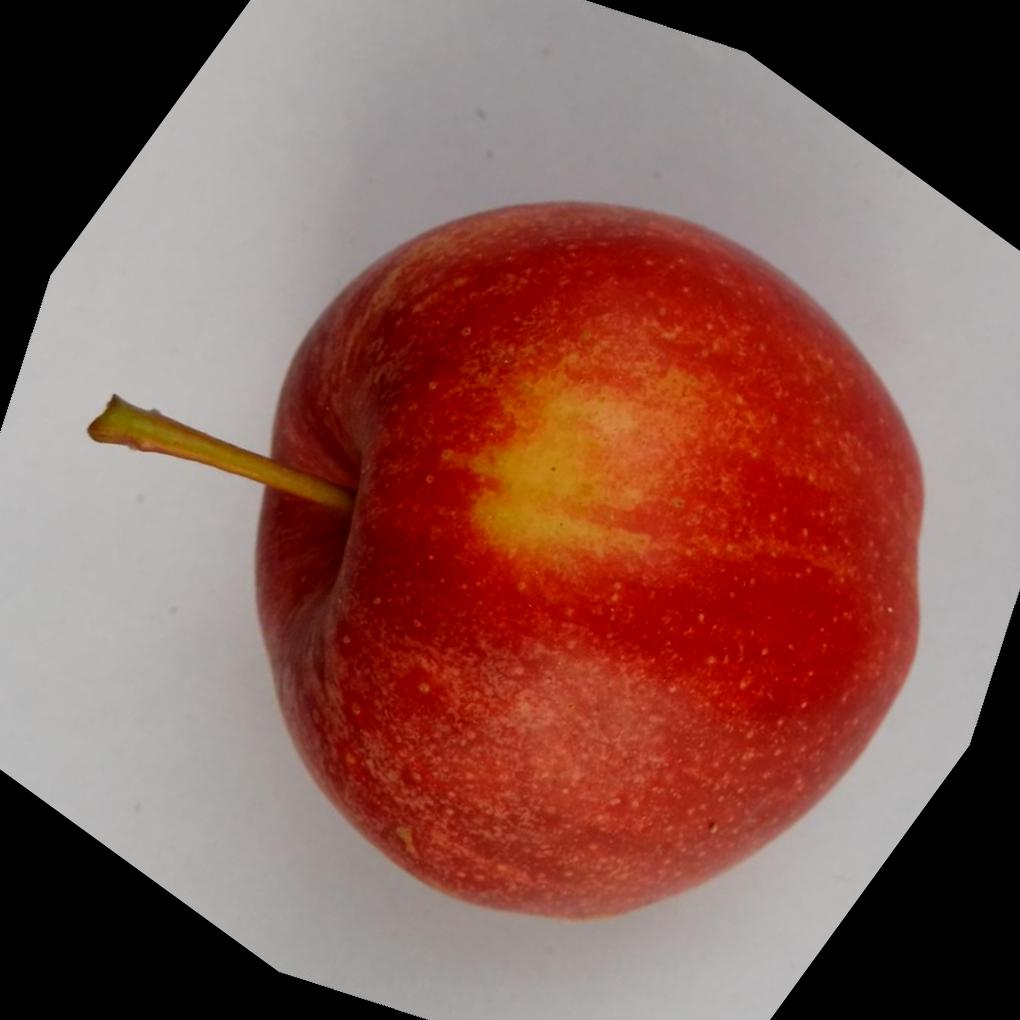FreshGuava: (92, 200, 931, 923)
